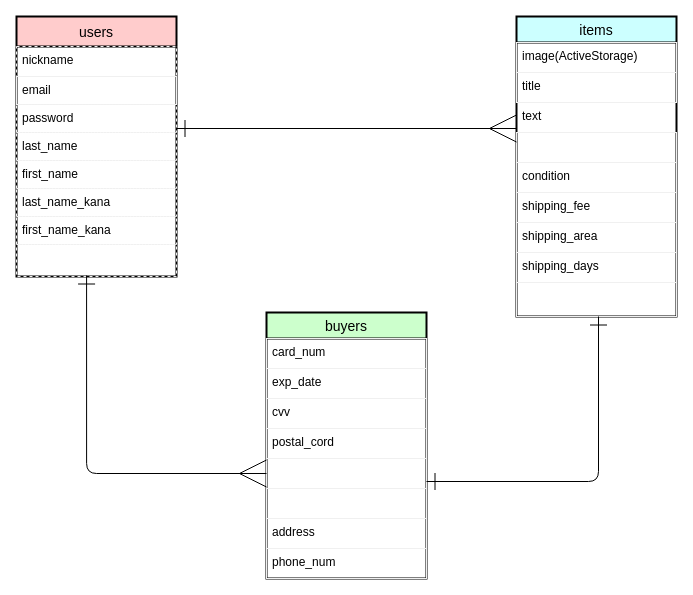
Some shapes in this 693 by 595 pixel diagram are drawn without their labels. Each missing label, with the centre of its shape:
"birthday" goes at point (96, 260).
"category" goes at point (596, 147).
"city" goes at point (346, 503).
"prefecture" goes at point (346, 473).
"price" goes at point (596, 299).
